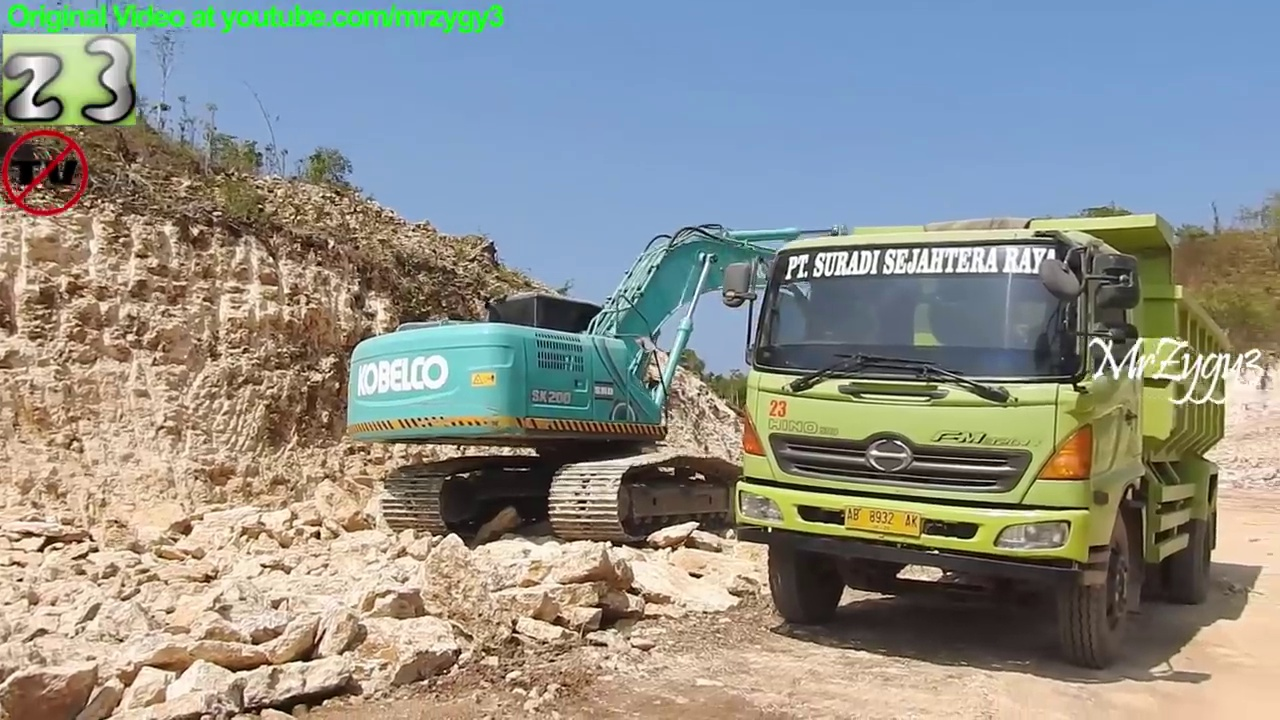excavator: (336, 214, 1034, 552)
truck: (715, 206, 1237, 671)
